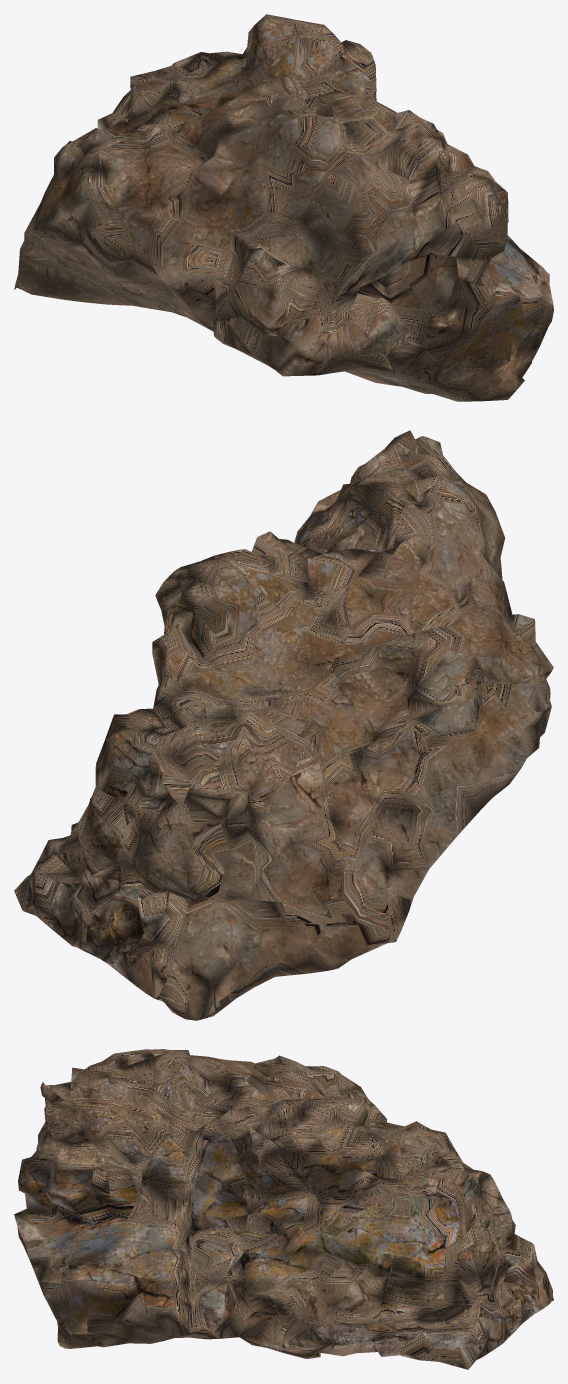
Rendered from boulder.light.glb.
3 renders of one model, top to bottom at view 1: azimuth 30°, elevation 25°; view 2: azimuth 150°, elevation 25°; view 3: azimuth 270°, elevation 25°, orthographic. The views are drawn at different scales.
Visible parts, largest first — view 1: boulder_01; view 2: boulder_01; view 3: boulder_01.
Boxes of the visible parts, bbox=[...] form: boulder_01: bbox=[14, 14, 553, 401]; boulder_01: bbox=[14, 430, 553, 1020]; boulder_01: bbox=[14, 1049, 553, 1369].
Size of the model in its own units: 1.38 by 1.09 by 1.98.
1 material, 1 textured.
